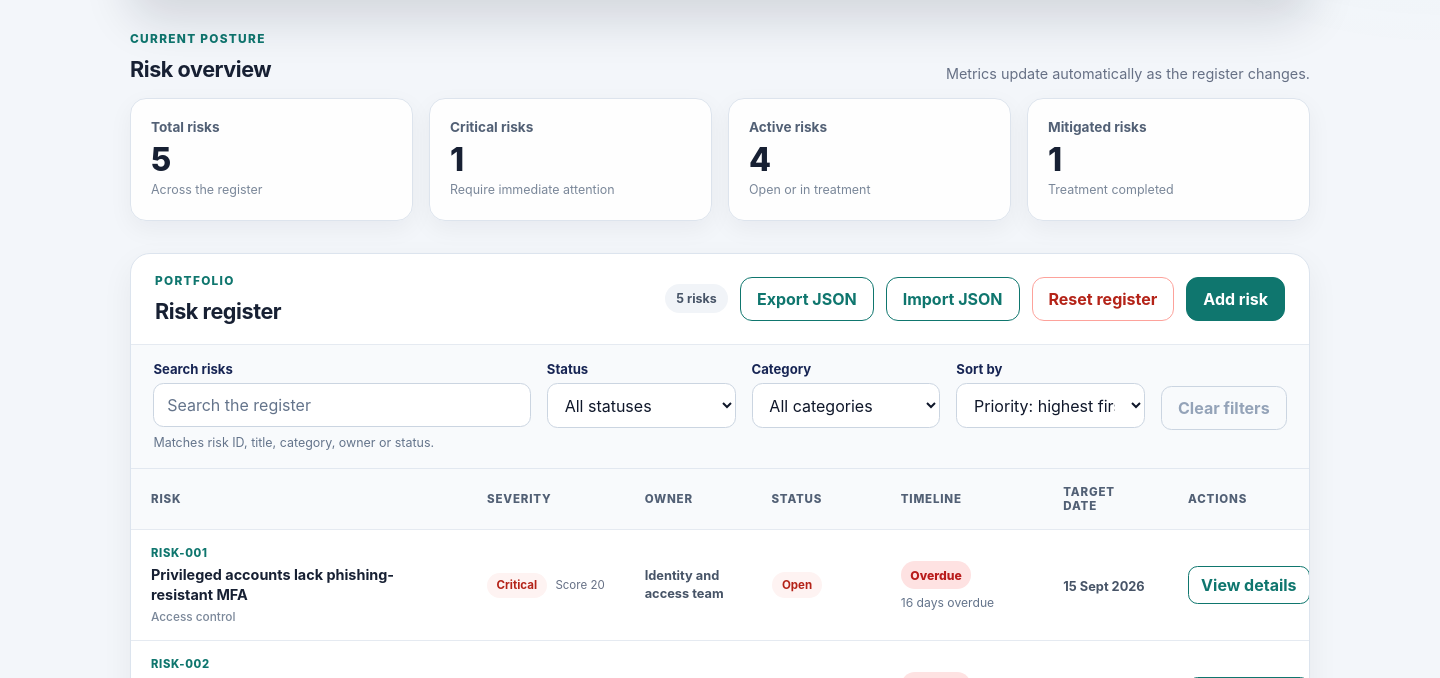
Test: App › combines filters and clears them while restoring search focus
(page scrolled)
Expected: the button "Clear filters" is disabled, [1161,386,1287,430]
Select "Open" in the dropdown labelled "Status" at (641, 406), box [547,383,736,428]
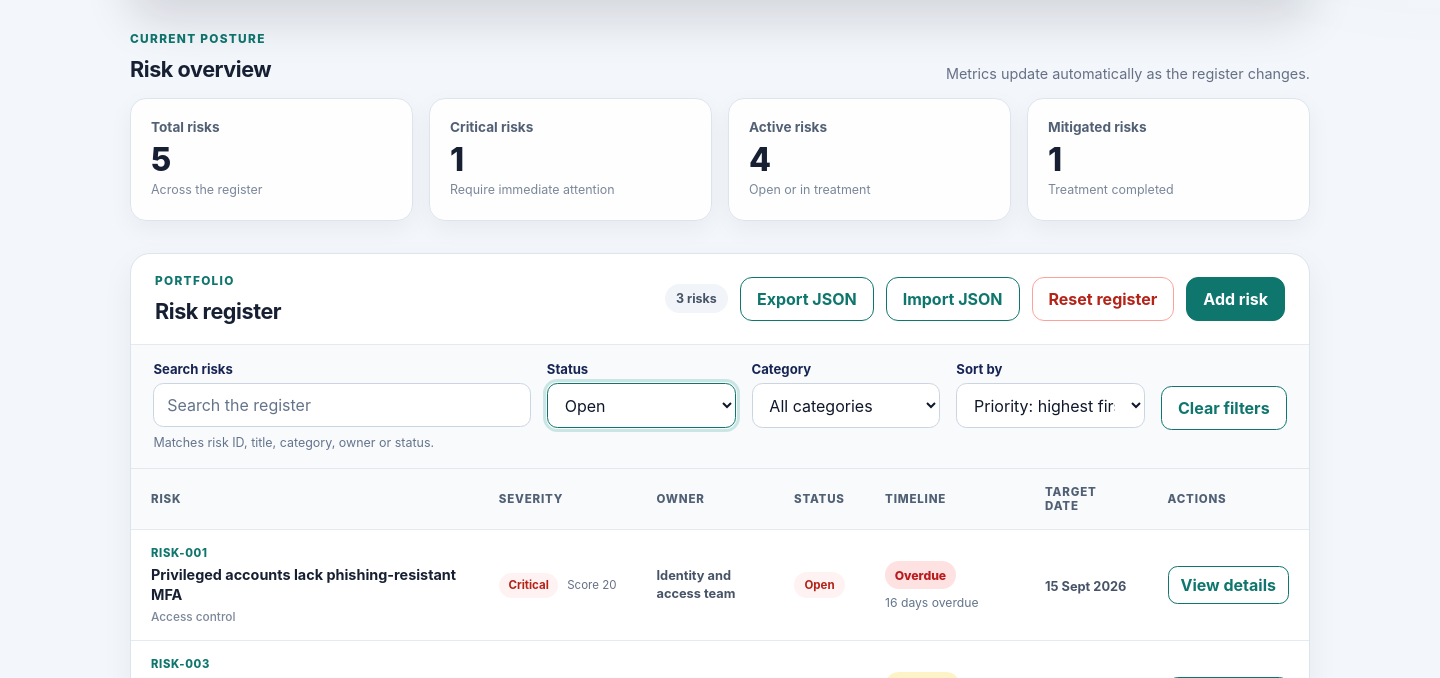
Result: the text "3 risks" is shown at [665,284,728,313]
Select "Access control" in the dropdown labelled "Category" at (846, 406), box [752,383,940,428]
(page scrolled)
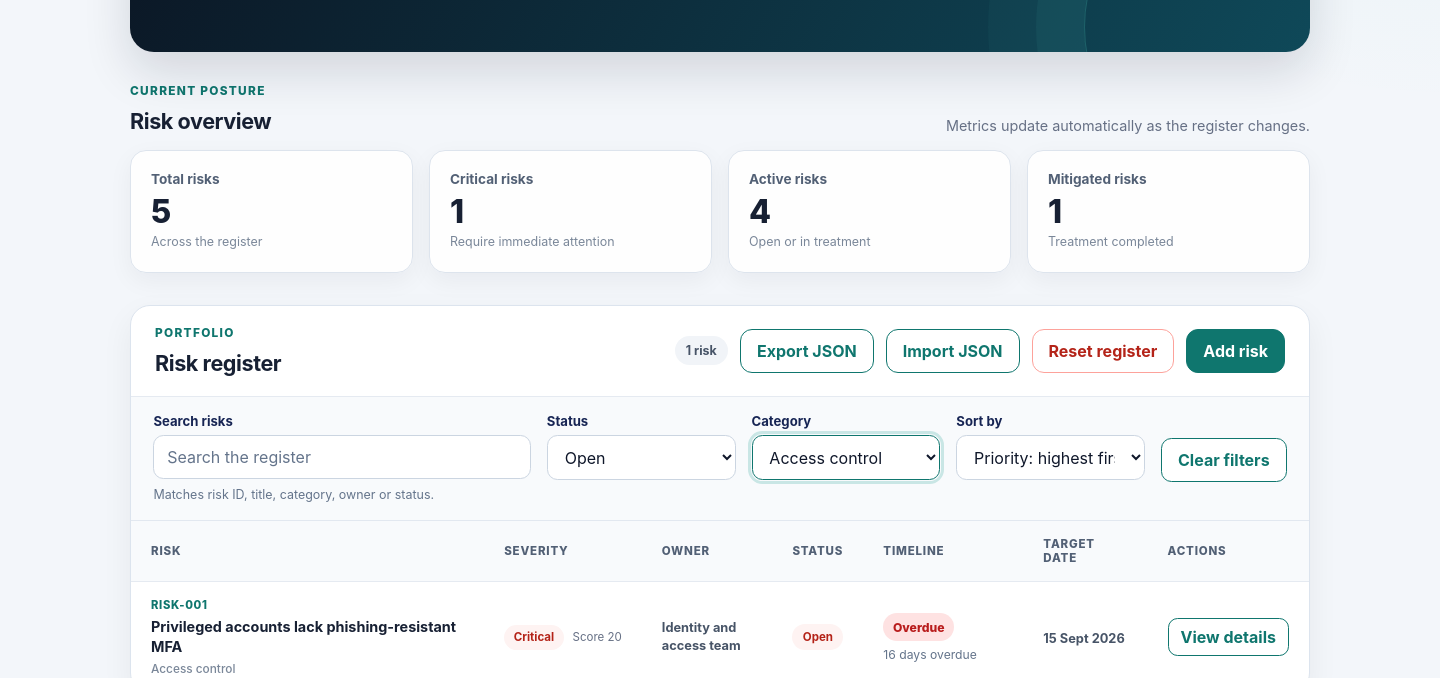
Type "MFA" into the search field labelled "Search risks".
click(342, 457); type("MFA")  # box [153,435,531,479]
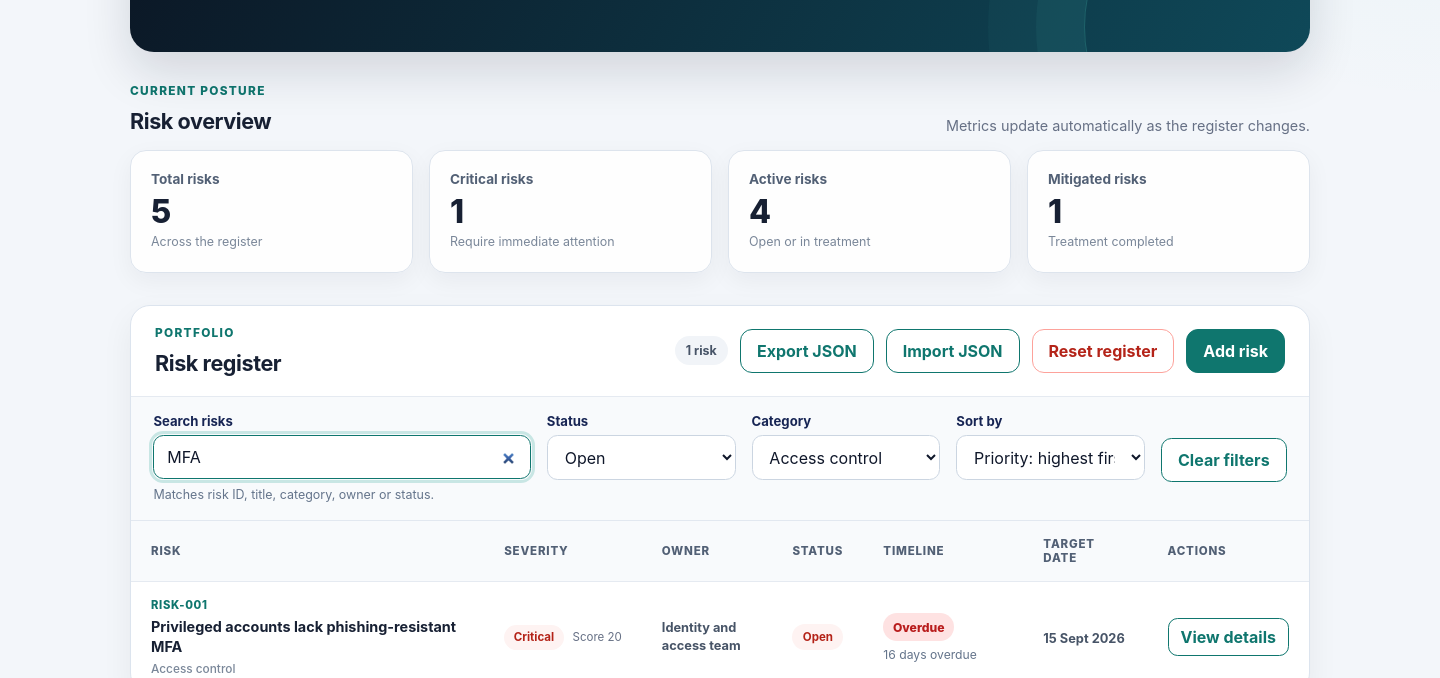
Result: the text "1 risk" is shown at [674,336,728,365]
Result: the button "Clear filters" is enabled
Click the button "Clear filters".
click(1224, 460)  # box [1161,438,1287,482]
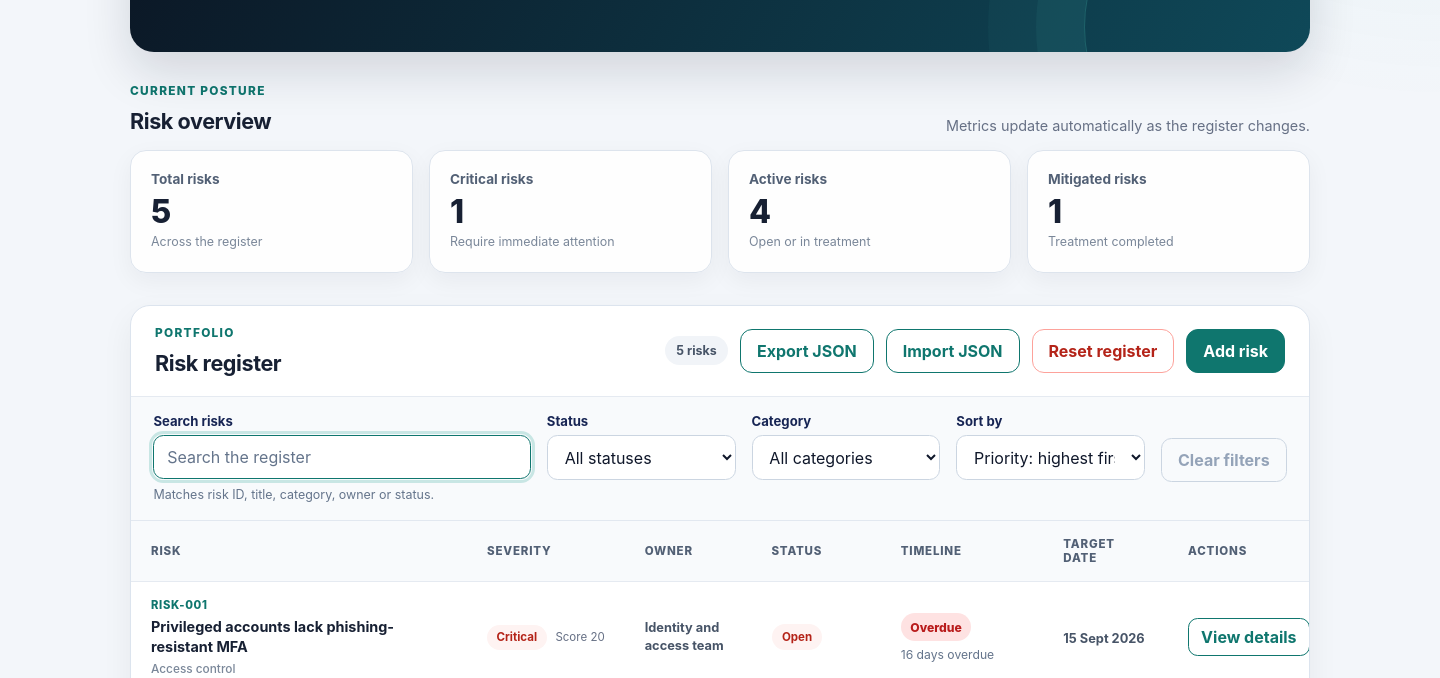
Result: the search field labelled "Search risks" is empty at [153,435,531,479]
Result: the text "5 risks" is shown at [665,336,728,365]
Result: the button "Clear filters" is disabled at [1161,438,1287,482]
